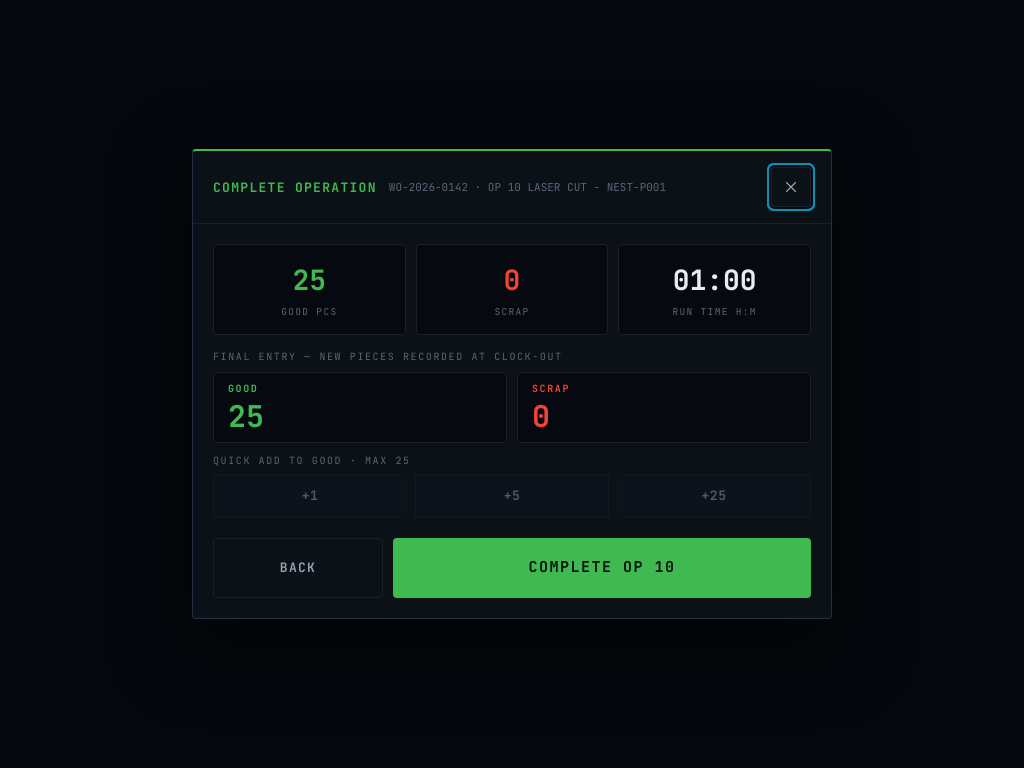
Test: KioskCompleteModal — quantity quick adds › re-points an open SCRAP keypad at good, so the next digit cannot land in scrap
Click the button with test id "kiosk-qty-good": click(243, 388) left=213, top=372, right=507, bottom=443
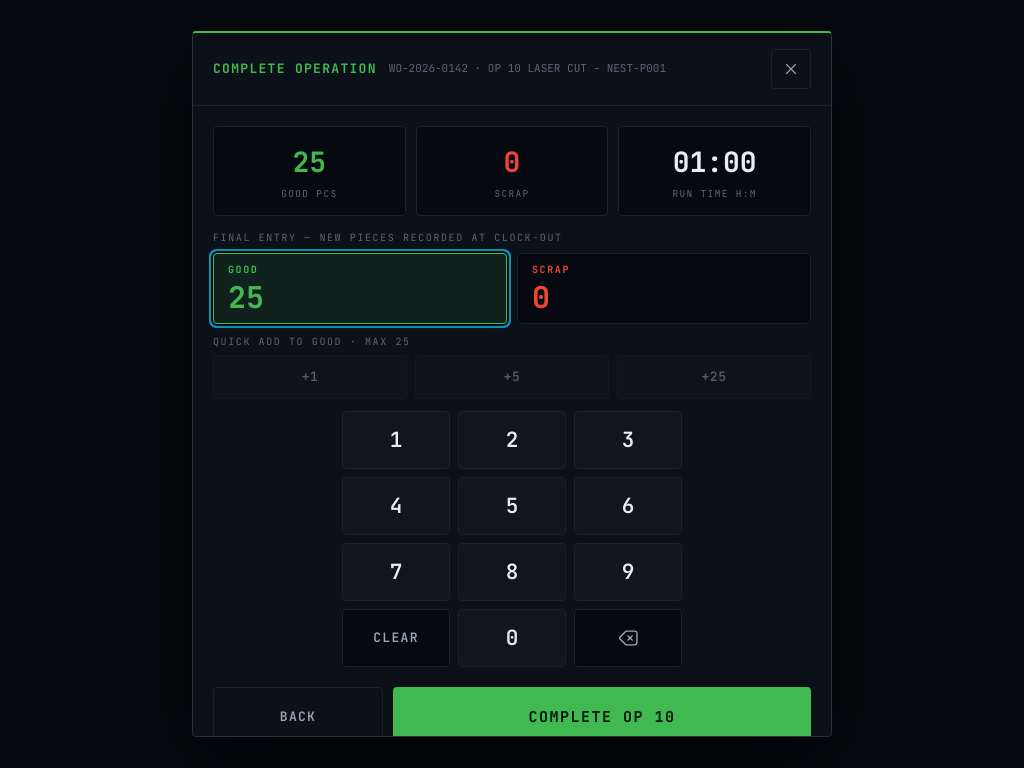
Click the button "Clear": click(396, 638) left=342, top=609, right=450, bottom=667
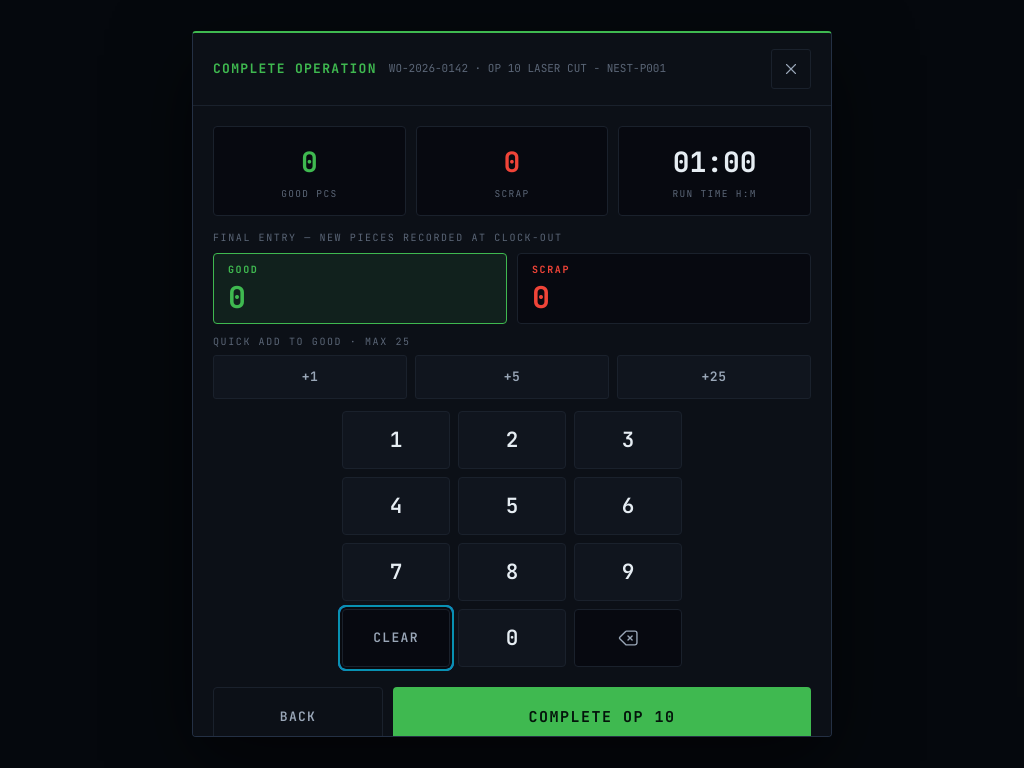
Click the button with test id "kiosk-qty-scrap": click(551, 269) left=517, top=253, right=811, bottom=324
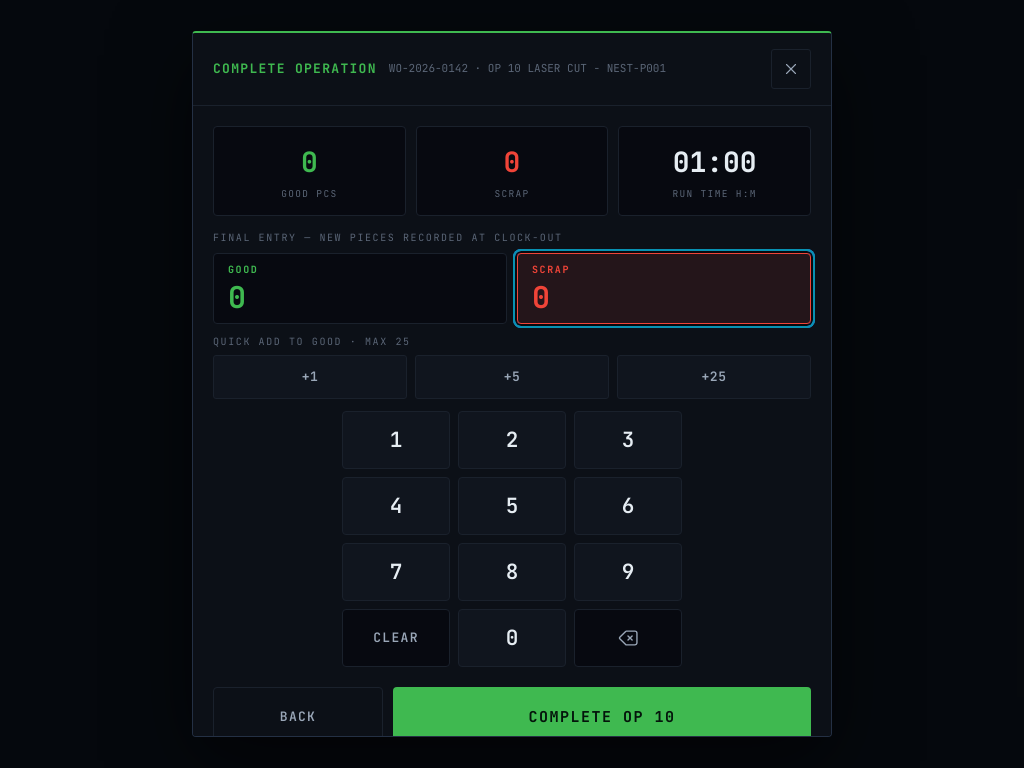
Click the button "2": click(512, 440) left=458, top=411, right=566, bottom=469
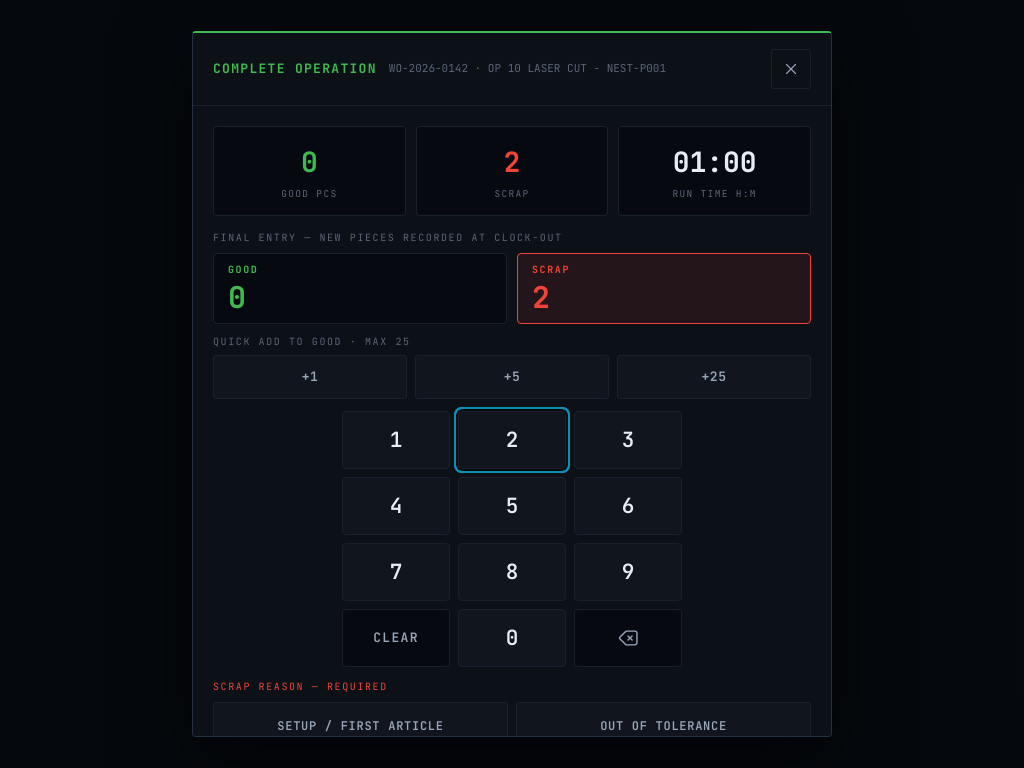
Expected: the 2nd text "2" is shown, left=532, top=277, right=550, bottom=317
Click the button "+1": click(310, 377) left=213, top=355, right=407, bottom=399
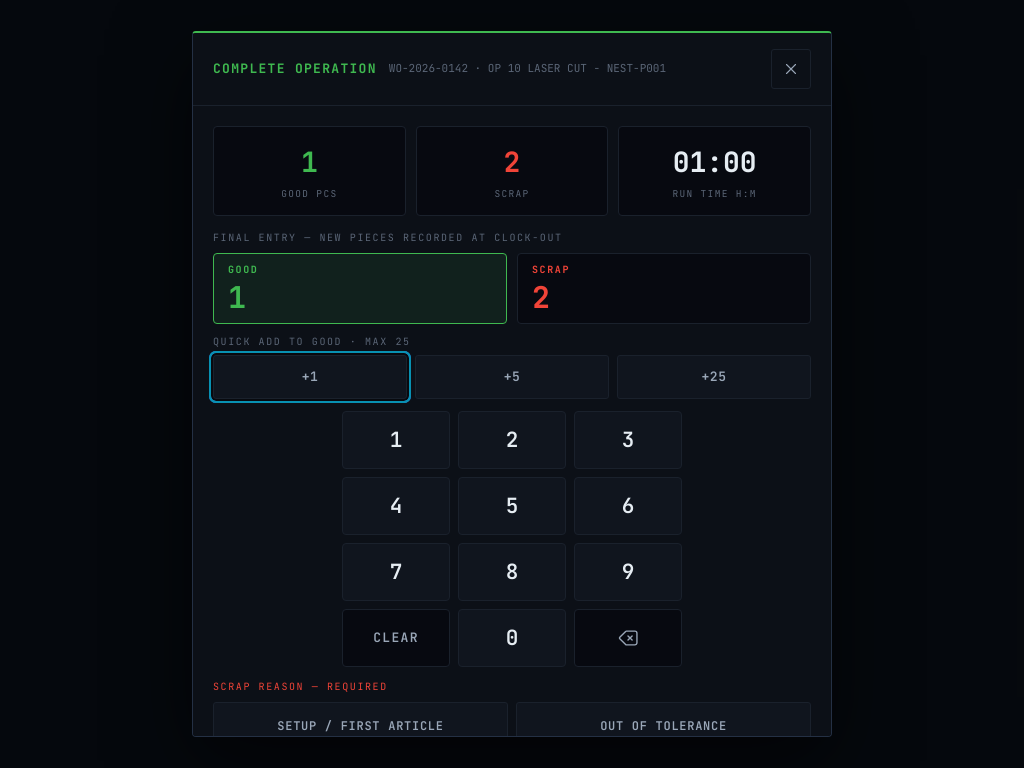
Expected: the button with test id "kiosk-qty-scrap" is not pressed, left=517, top=253, right=811, bottom=324
Expected: the button with test id "kiosk-qty-good" is pressed, left=213, top=253, right=507, bottom=324
Click the button "7": click(396, 572) left=342, top=543, right=450, bottom=601
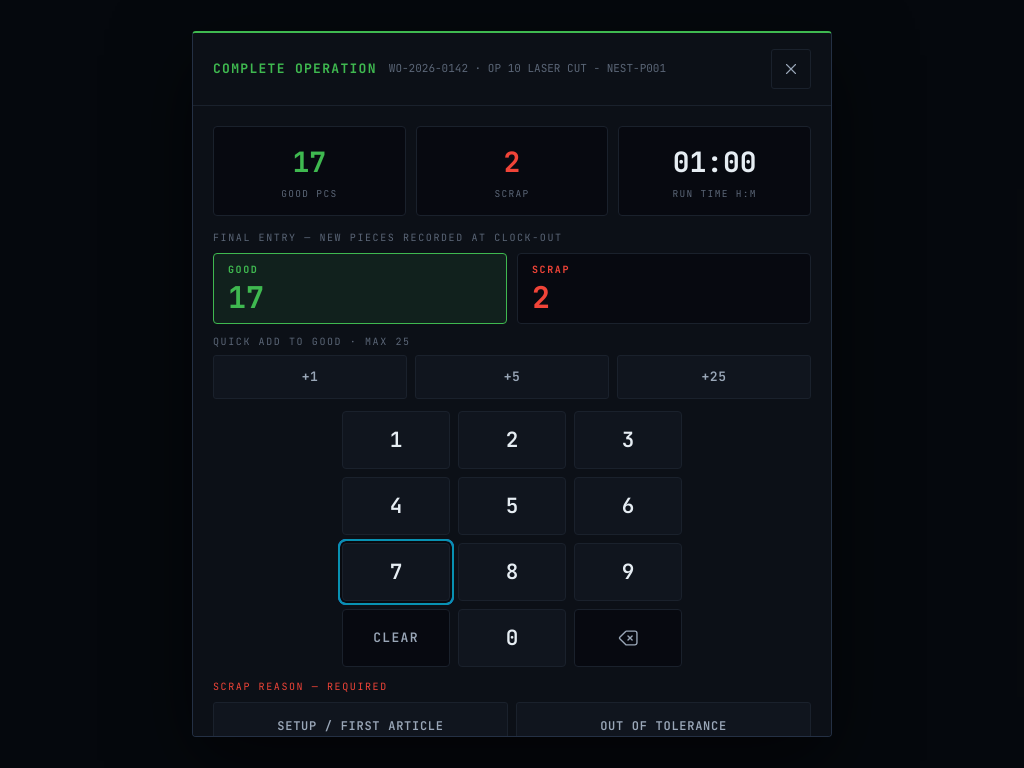
Expected: the 2nd text "2" is shown, left=532, top=277, right=550, bottom=317
Expected: the 2nd text "17" is shown, left=228, top=277, right=264, bottom=317
